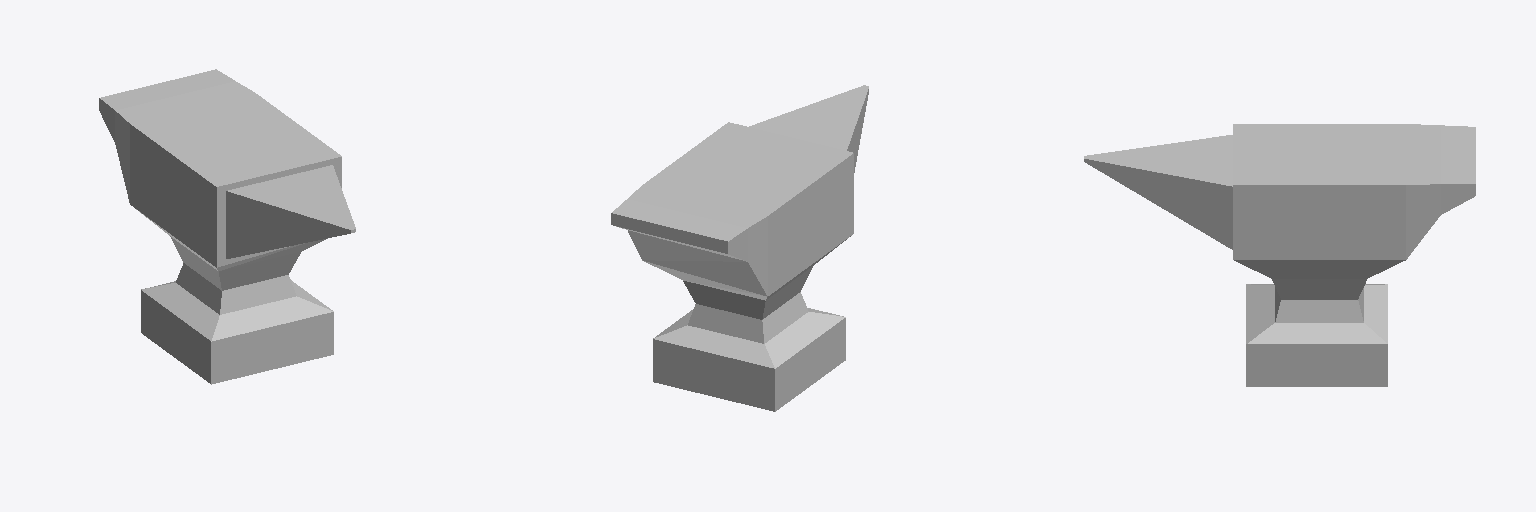
The model's file is anvil (1).obj.
3 views of the same model, side by side, from view 1: azimuth 30°, elevation 25°; view 2: azimuth 150°, elevation 25°; view 3: azimuth 270°, elevation 25° (orthographic).
Visible parts, largest first — view 1: pCube1; view 2: pCube1; view 3: pCube1.
Boxes of the visible parts, x1,y1,x2,y2 form: pCube1: [99, 69, 355, 384]; pCube1: [611, 85, 868, 411]; pCube1: [1084, 124, 1475, 386].
Bounding box in the file's own units: 1.38 × 2.12 × 3.73.